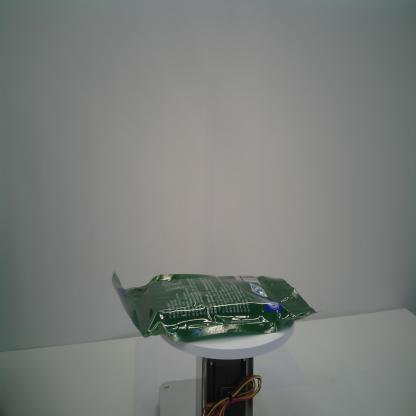Dried Food: (111, 270, 321, 344)
